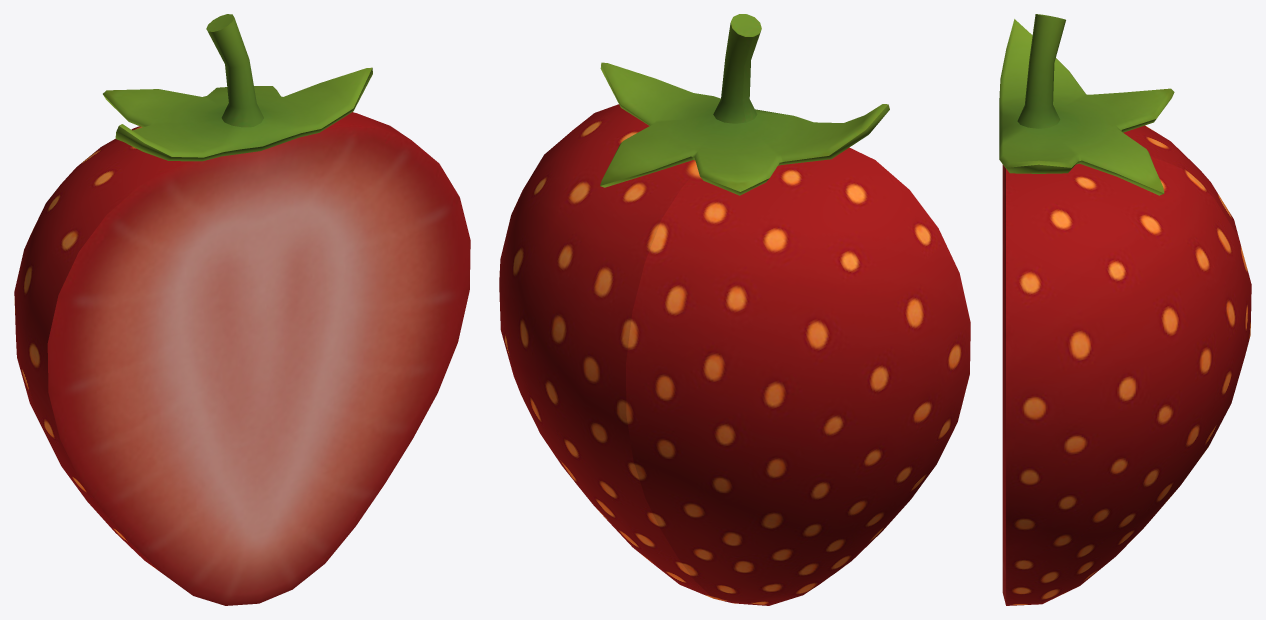
Rendered from StrawberrySlice_1.fbx.
3 renders of one model, left to right at view 1: azimuth 30°, elevation 25°; view 2: azimuth 150°, elevation 25°; view 3: azimuth 270°, elevation 25°, orthographic. The views are drawn at different scales.
Visible parts, largest first — view 1: StrawberrySlice_1; view 2: StrawberrySlice_1; view 3: StrawberrySlice_1.
Boxes of the visible parts, left/top/right/bottom form: StrawberrySlice_1: left=14, top=14, right=470, bottom=605; StrawberrySlice_1: left=499, top=14, right=970, bottom=605; StrawberrySlice_1: left=999, top=14, right=1251, bottom=605.
Size of the model in its own units: 0.0399 by 0.0517 by 0.0205.
Materials: 1 (1 with a texture image).
